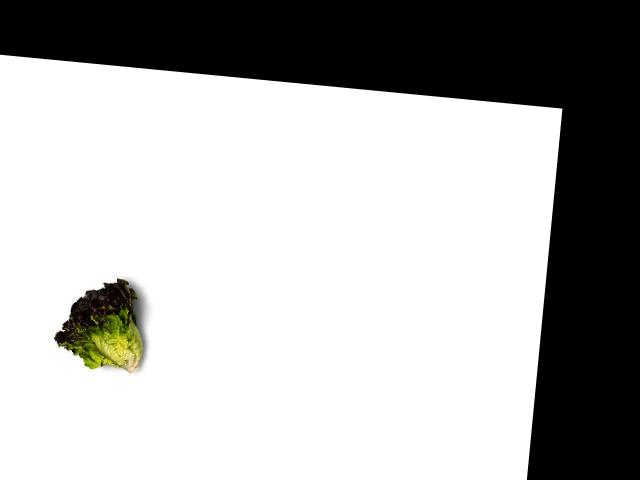lettuce: (53, 267, 150, 377)
